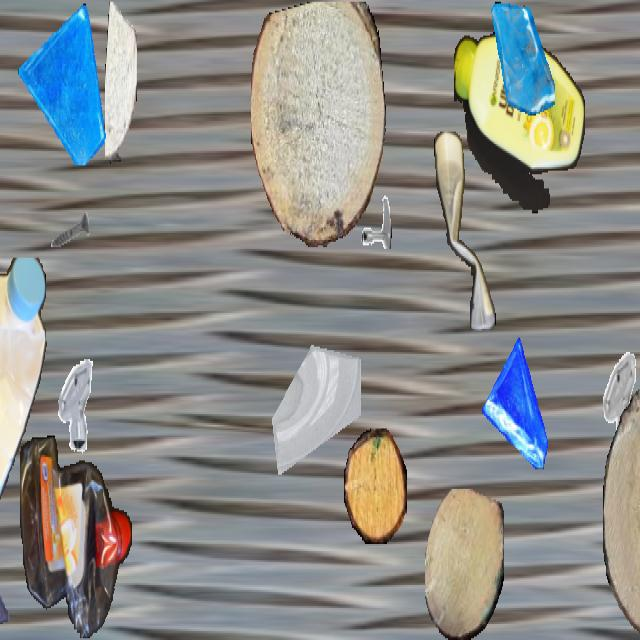glass: (268, 309, 360, 473), (18, 2, 110, 165), (482, 338, 556, 469), (491, 1, 555, 116), (0, 489, 9, 638)
metal: (44, 351, 102, 454), (589, 349, 640, 455), (350, 174, 392, 249), (49, 192, 91, 267)
plastic: (454, 32, 584, 213), (20, 436, 132, 638), (0, 257, 48, 564), (434, 132, 496, 330)
wood: (251, 2, 385, 247), (425, 489, 503, 638), (603, 382, 640, 638), (344, 428, 406, 542), (105, 2, 137, 162)
